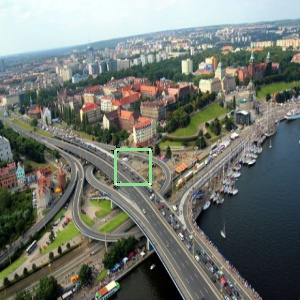square: (110, 145, 155, 188)
